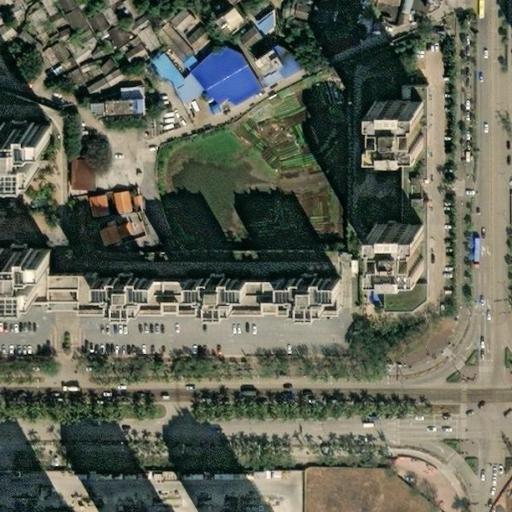building: (183, 39, 257, 107), (367, 98, 416, 152), (195, 283, 267, 319), (105, 279, 173, 315), (368, 220, 415, 272), (288, 278, 347, 315), (146, 23, 185, 63), (143, 45, 182, 85), (168, 71, 201, 103), (68, 154, 96, 191), (318, 30, 355, 56), (269, 43, 295, 80), (176, 26, 206, 57), (250, 50, 280, 79), (220, 11, 247, 37), (179, 93, 205, 119), (103, 100, 142, 117), (232, 29, 257, 54), (160, 8, 185, 32), (76, 11, 99, 35), (130, 25, 151, 50), (40, 41, 61, 63), (77, 76, 100, 96), (115, 42, 138, 62), (68, 28, 86, 53), (55, 9, 76, 30), (17, 12, 36, 35), (98, 26, 118, 47), (95, 66, 117, 85), (105, 189, 123, 212), (253, 14, 270, 36), (305, 1, 328, 17), (7, 30, 26, 48), (39, 11, 57, 30), (113, 86, 138, 99), (61, 47, 80, 63), (375, 281, 385, 311), (283, 6, 306, 19), (111, 23, 128, 40), (88, 57, 105, 73), (122, 15, 139, 31), (365, 274, 375, 300), (55, 37, 70, 54), (93, 7, 108, 24), (91, 228, 105, 246), (100, 224, 113, 243), (59, 68, 74, 84), (25, 8, 39, 25), (174, 55, 188, 70), (385, 11, 400, 25), (108, 221, 123, 235), (426, 0, 442, 13), (52, 58, 67, 71), (87, 104, 101, 117), (90, 37, 103, 51), (325, 11, 339, 24), (391, 0, 404, 14), (95, 20, 110, 32), (82, 44, 95, 57), (86, 29, 100, 41), (256, 76, 268, 87), (43, 65, 55, 75), (32, 21, 42, 31), (120, 37, 130, 47), (50, 27, 60, 36), (125, 194, 134, 204), (38, 33, 49, 41), (117, 0, 129, 6), (97, 219, 105, 226), (354, 0, 365, 4), (3, 1, 10, 7), (71, 64, 77, 70)
